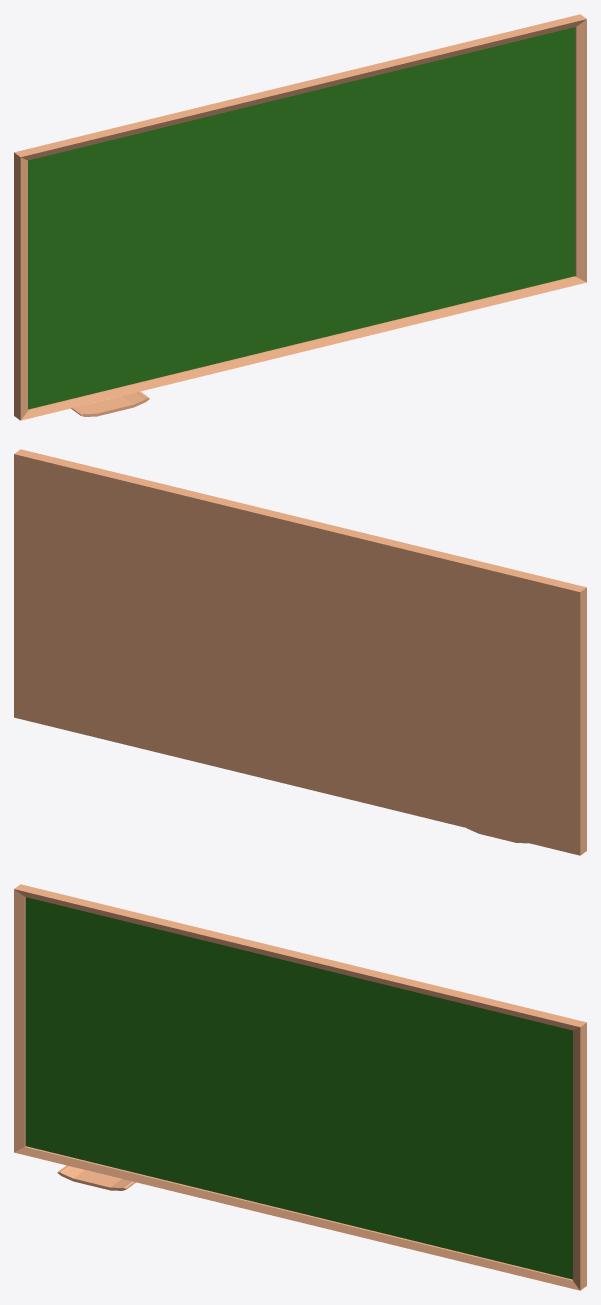
The model's file is blackboard.glb.
The picture shows the model from 3 angles, top to bottom: view 1: azimuth 30°, elevation 25°; view 2: azimuth 150°, elevation 25°; view 3: azimuth 330°, elevation 25°; orthographic projection.
Visible parts, largest first — view 1: Pizzara; view 2: Pizzara; view 3: Pizzara.
Part boxes in pixels (x1,y1,x2,y2): Pizzara: (14, 14, 586, 420); Pizzara: (14, 449, 586, 855); Pizzara: (14, 884, 586, 1290).
Bounding box in the file's own units: 4.48 × 2.04 × 0.2071.
